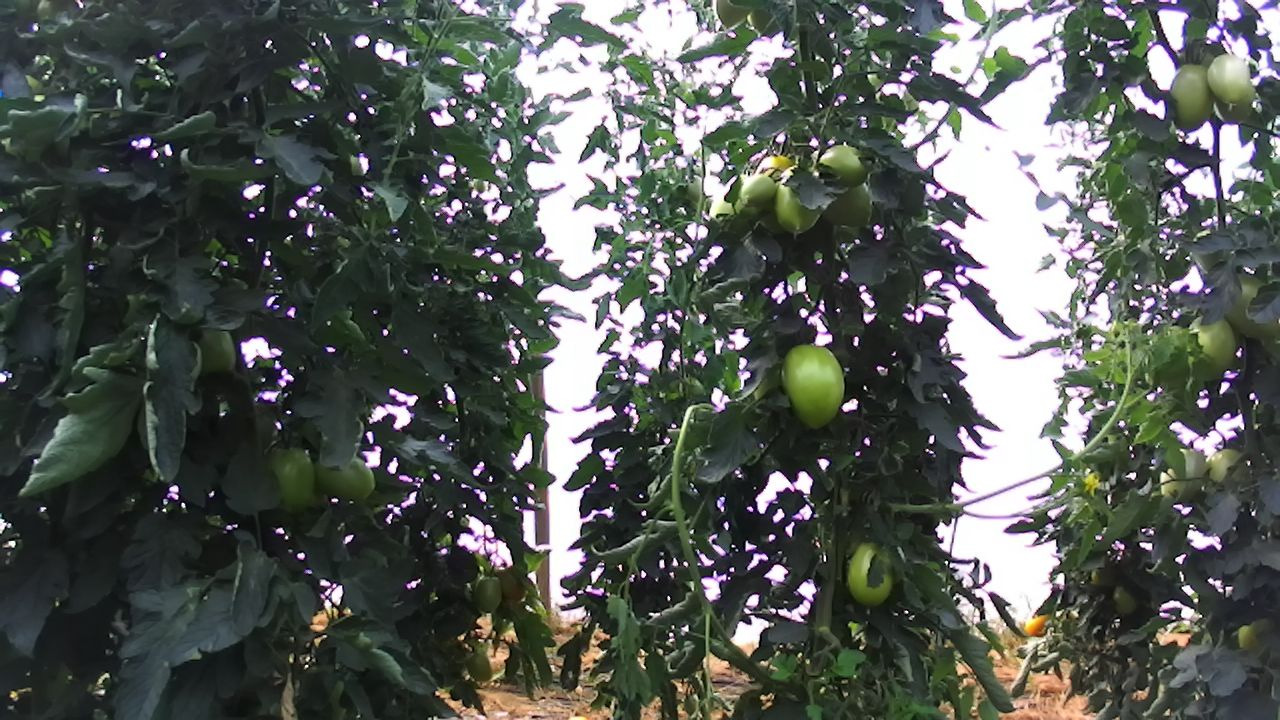tomato: (777, 340, 852, 436), (768, 160, 832, 242), (261, 440, 322, 516), (819, 171, 878, 234), (845, 538, 896, 610), (1167, 60, 1215, 136), (811, 138, 875, 191), (314, 452, 376, 504), (1205, 49, 1252, 107), (737, 173, 778, 207), (472, 573, 503, 615), (463, 647, 493, 685)
